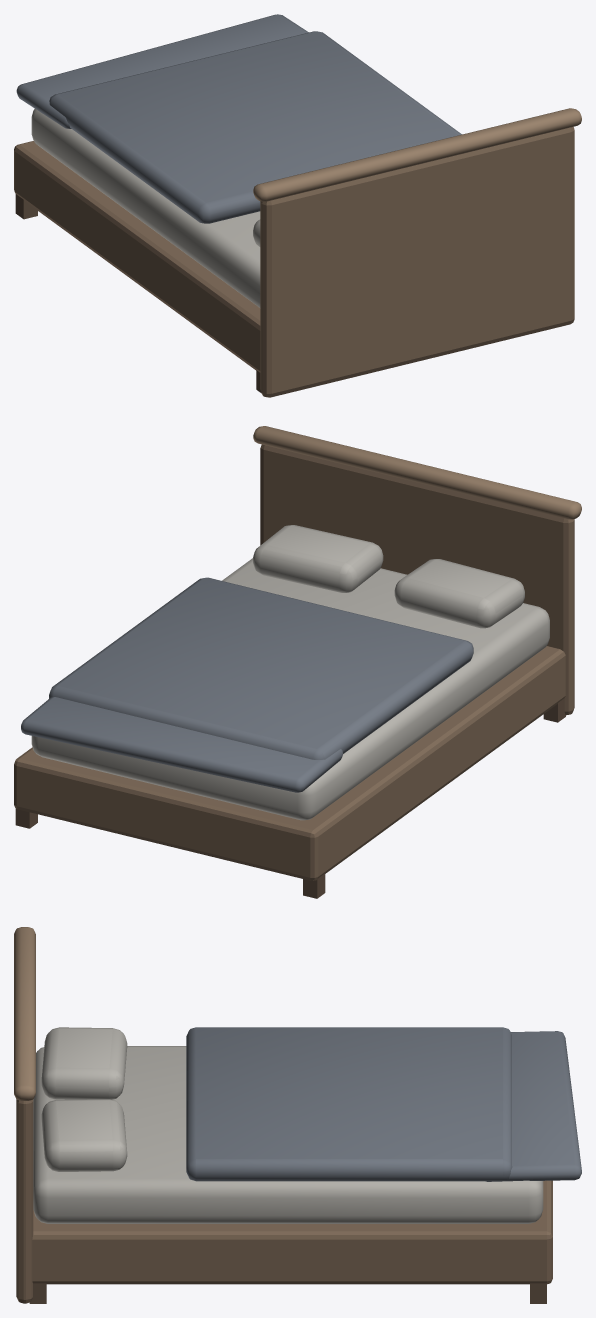
Rendered from bed_1_4x2_1.glb.
The picture shows the model from 3 angles, top to bottom: view 1: azimuth 30°, elevation 25°; view 2: azimuth 150°, elevation 25°; view 3: azimuth 270°, elevation 25°; orthographic projection. The views are drawn at different scales.
Parts seen in each view (by area): view 1: bed_1_4x2_1; view 2: bed_1_4x2_1; view 3: bed_1_4x2_1.
Part boxes in pixels (bbox=[...]): bed_1_4x2_1: bbox=[14, 14, 581, 397]; bed_1_4x2_1: bbox=[14, 426, 581, 898]; bed_1_4x2_1: bbox=[14, 927, 581, 1303].
Bounding box in the file's own units: 1.6 × 1 × 2.34.
